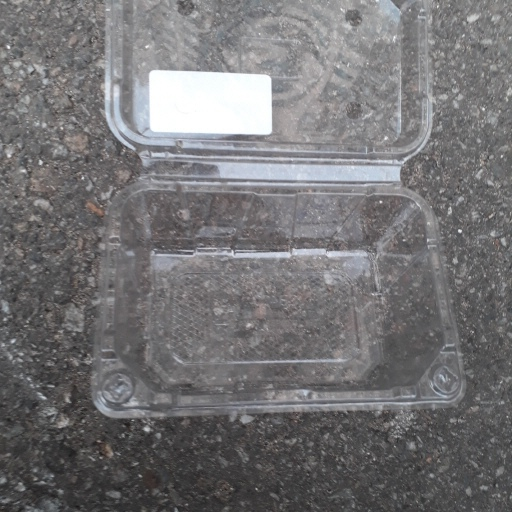Plastic_4: (83, 1, 465, 422)
